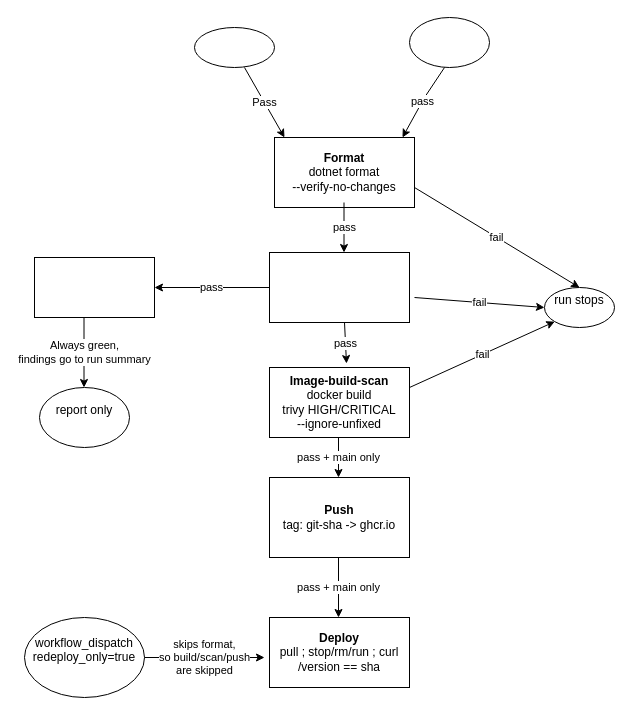
Image size: 632x715. Some labels were removed from this diagram. The shapes that lost their labels are listed below. From the top down, each one's box as (x1, y1, x2, y2) in pixels, then its label:
(194, 26, 274, 68): push to main
(408, 16, 490, 68): pull_request to main
(34, 256, 154, 318): Dependency-scan dotnet lis package --vulnerable
(268, 252, 410, 322): Build Test restore / build / test
